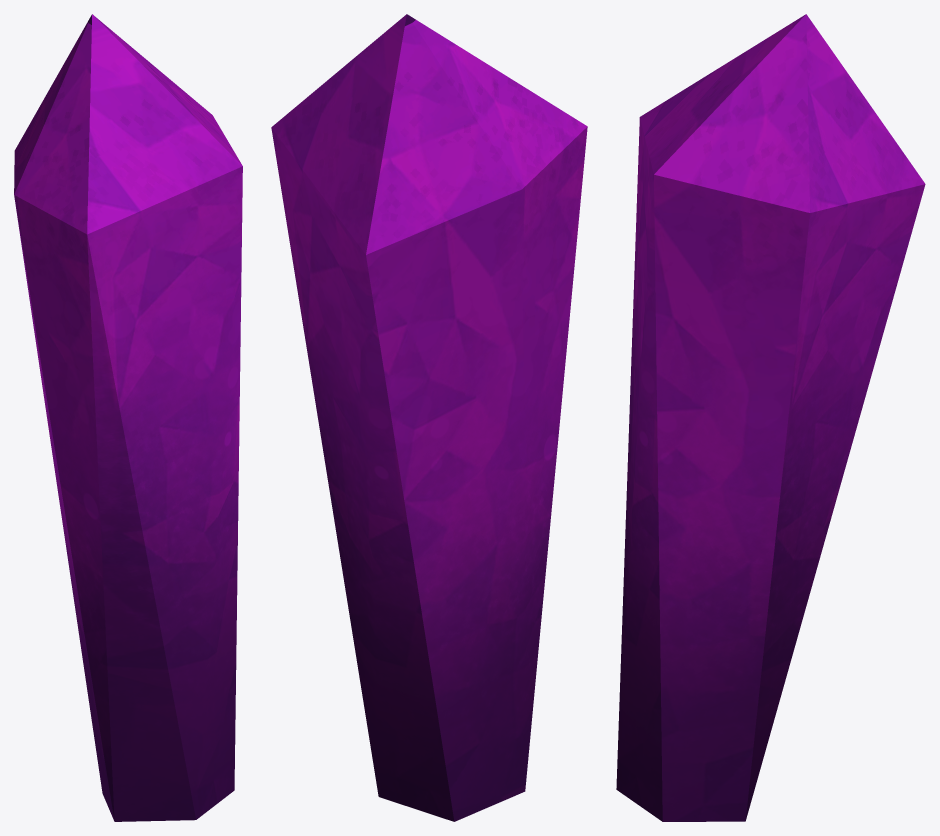
The model's file is P_CRYSTAL FRAGMENT 4.fbx.
The picture shows the model from 3 angles, left to right: view 1: azimuth 30°, elevation 25°; view 2: azimuth 150°, elevation 25°; view 3: azimuth 270°, elevation 25°; orthographic projection. The views are drawn at different scales.
Visible parts, largest first — view 1: Crystal Fragment_4; view 2: Crystal Fragment_4; view 3: Crystal Fragment_4.
Boxes of the visible parts, bbox=[...] form: Crystal Fragment_4: bbox=[14, 14, 242, 821]; Crystal Fragment_4: bbox=[271, 14, 587, 821]; Crystal Fragment_4: bbox=[616, 14, 925, 821].
Size of the model in its own units: 71.86 by 242 by 86.62.
